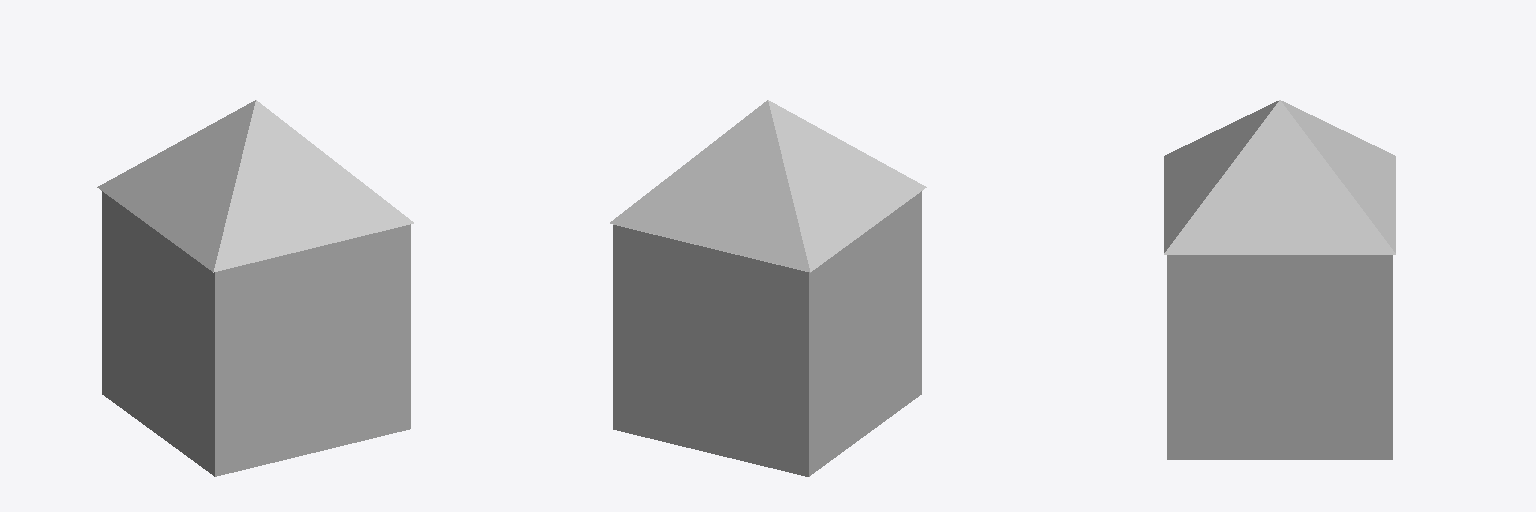
The model's file is casa.obj.
The picture shows the model from 3 angles: view 1: azimuth 30°, elevation 25°; view 2: azimuth 150°, elevation 25°; view 3: azimuth 270°, elevation 25°; orthographic projection.
Visible parts, largest first — view 1: Cube.003_Cube.004; view 2: Cube.003_Cube.004; view 3: Cube.003_Cube.004.
Part boxes in pixels (x1,y1,x2,y2): Cube.003_Cube.004: (97,100,413,476); Cube.003_Cube.004: (610,100,926,476); Cube.003_Cube.004: (1164,100,1395,459).
Bounding box in the file's own units: 15.69 × 23.2 × 15.69.